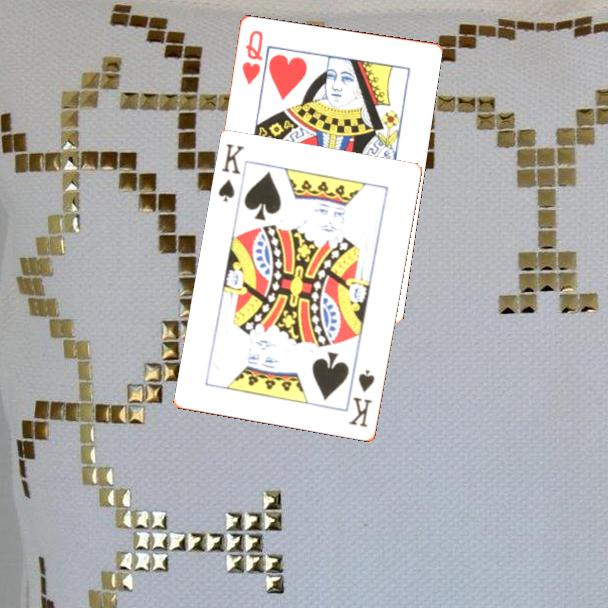h12: (238, 26, 266, 87)
s13: (345, 366, 378, 431), (215, 141, 248, 205)
